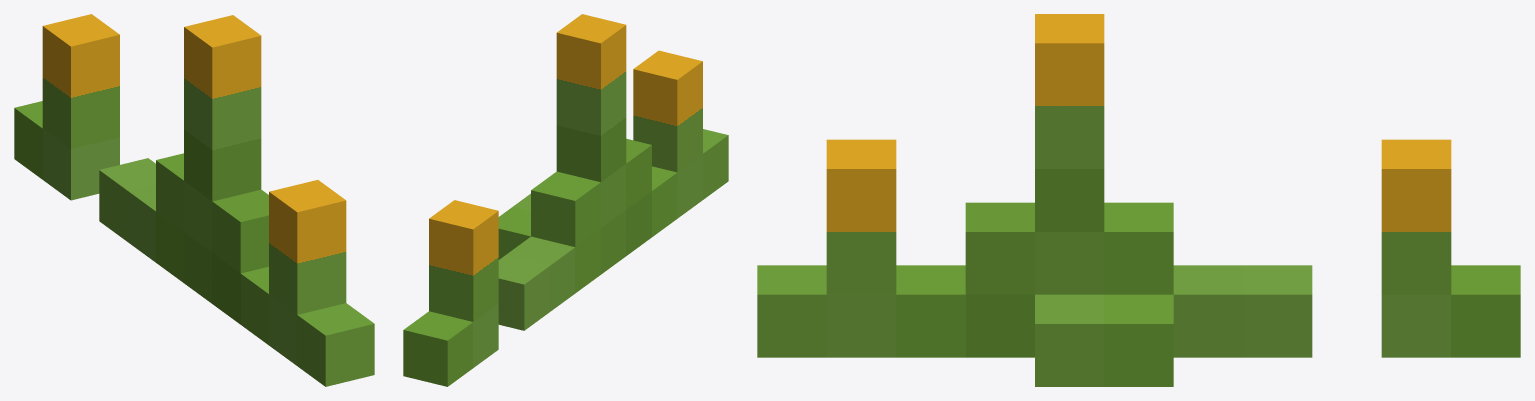
File: flowers_3.fbx
3 renders of one model, left to right at view 1: azimuth 30°, elevation 25°; view 2: azimuth 150°, elevation 25°; view 3: azimuth 270°, elevation 25°, orthographic. The views are drawn at different scales.
Parts seen in each view (by area): view 1: flowers_3; view 2: flowers_3; view 3: flowers_3.
Part boxes in pixels (x1=…): flowers_3: x1=14, y1=14, x2=374, y2=386; flowers_3: x1=403, y1=14, x2=728, y2=386; flowers_3: x1=757, y1=14, x2=1520, y2=386.
Size of the model in its own units: 2 by 5 by 11.
1 material, 1 textured.
